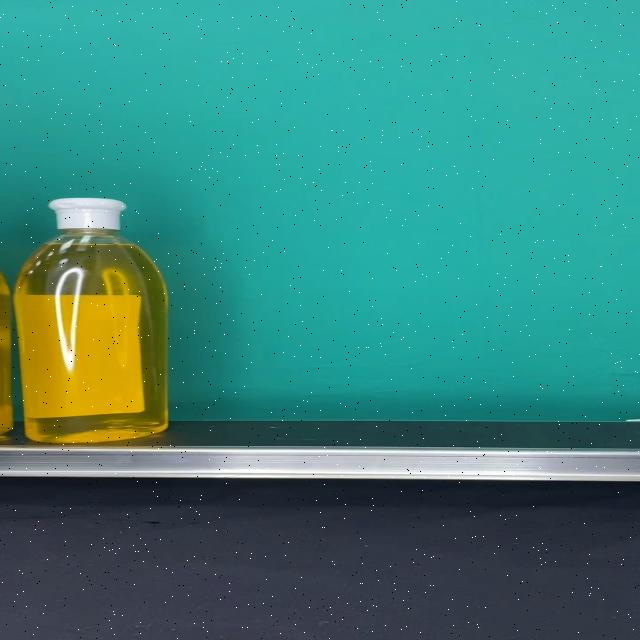Bottle: (14, 198, 166, 442)
Cap: (47, 198, 126, 230)
